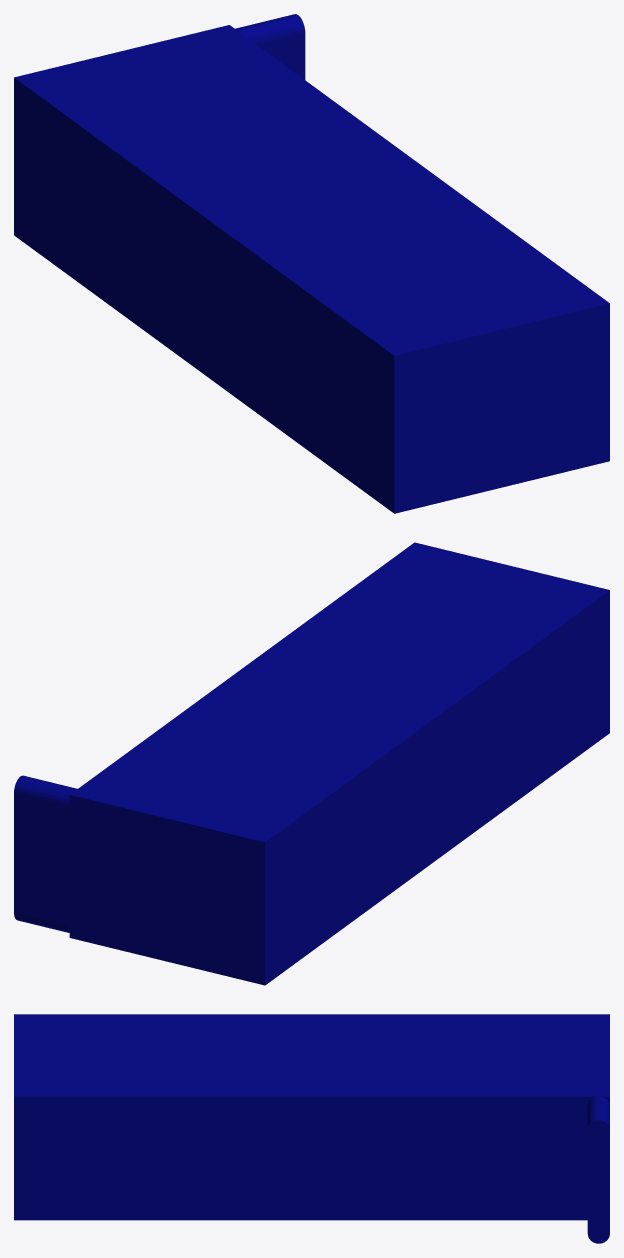
Rendered from Battery-Turnigy-2200mAh_FCD-Conv_BDR-Col.dae.
3 views of the same model, one above another, from view 1: azimuth 30°, elevation 25°; view 2: azimuth 150°, elevation 25°; view 3: azimuth 270°, elevation 25° (orthographic). The views are drawn at different scales.
Visible parts, largest first — view 1: Battery-Turnigy-2200mAh; view 2: Battery-Turnigy-2200mAh; view 3: Battery-Turnigy-2200mAh.
Part boxes in pixels (bbox=[...]): Battery-Turnigy-2200mAh: bbox=[14, 14, 609, 513]; Battery-Turnigy-2200mAh: bbox=[14, 542, 609, 985]; Battery-Turnigy-2200mAh: bbox=[14, 1014, 609, 1243].
Size of the model in its own units: 45 by 107 by 24.5.
